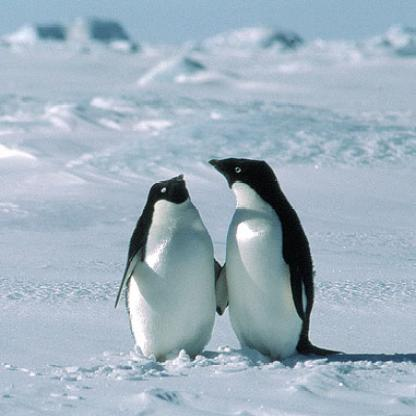Penguin: (203, 141, 352, 376), (101, 170, 227, 370)
